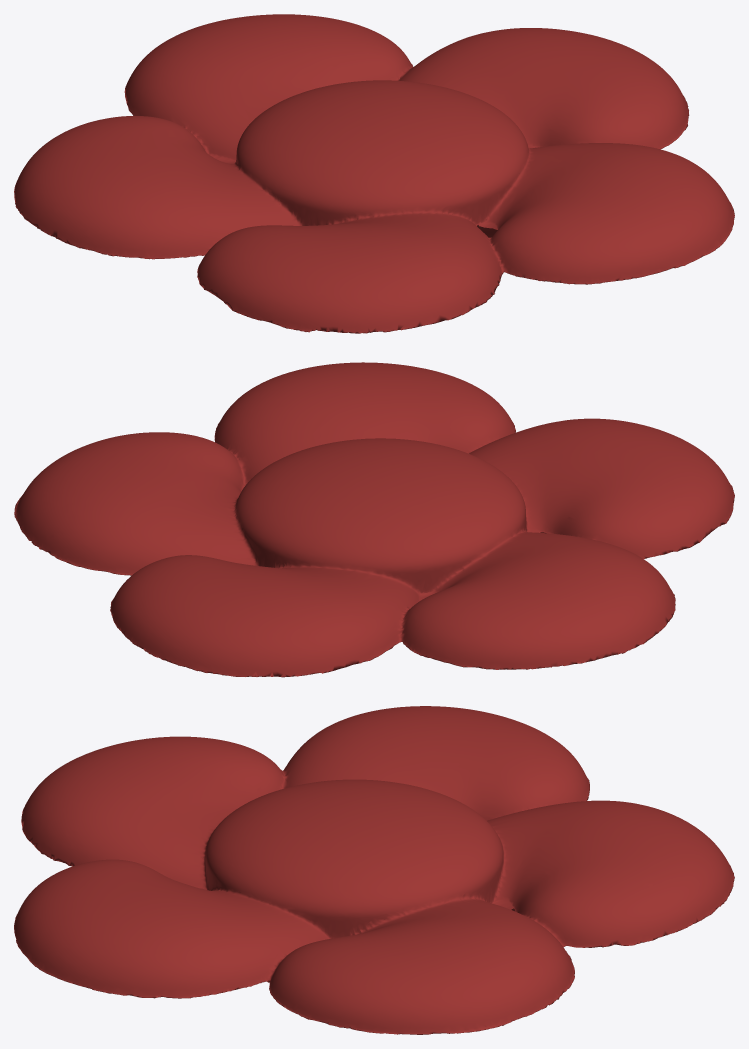
The model's file is decoration-blossom.glb.
3 renders of one model, top to bottom at view 1: azimuth 30°, elevation 25°; view 2: azimuth 150°, elevation 25°; view 3: azimuth 270°, elevation 25°, orthographic. The views are drawn at different scales.
Parts seen in each view (by area): view 1: decoration_blossom; view 2: decoration_blossom; view 3: decoration_blossom.
Boxes of the visible parts, <box> form: decoration_blossom: <box>14,14,734,333</box>; decoration_blossom: <box>14,362,734,677</box>; decoration_blossom: <box>14,706,734,1034</box>.
Size of the model in its own units: 0.2417 by 0.0242 by 0.2366.
